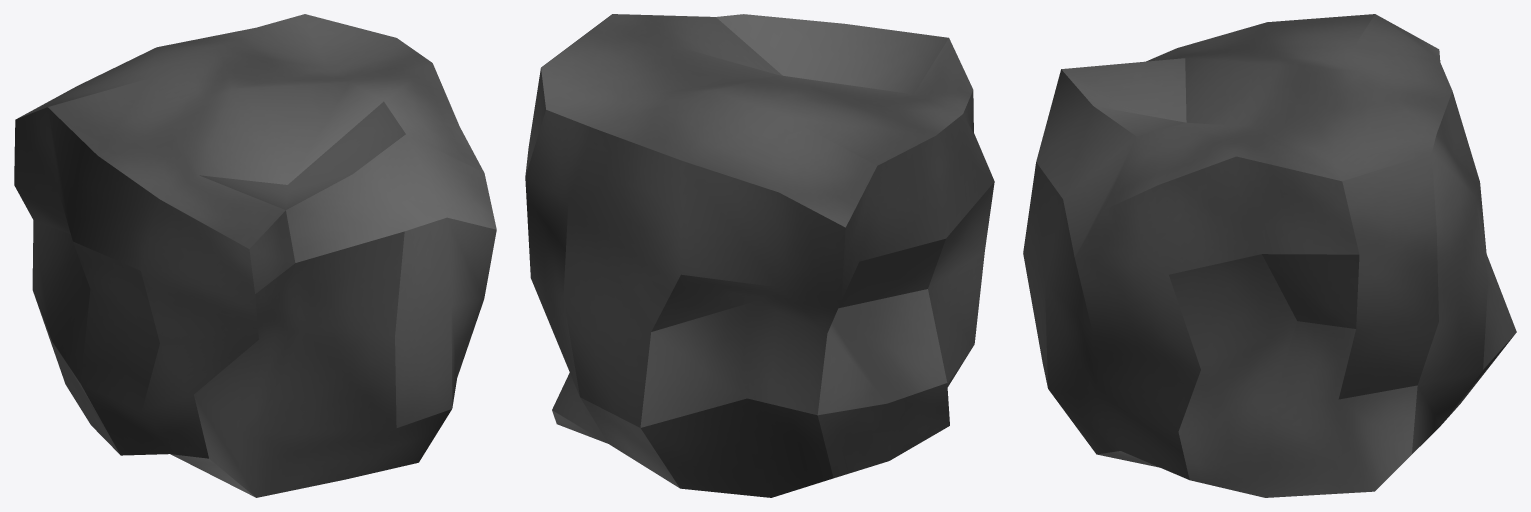
Rendered from GAMEJAMPUFFER - ForeGround Rock 7.fbx.
The picture shows the model from 3 angles, left to right: view 1: azimuth 30°, elevation 25°; view 2: azimuth 150°, elevation 25°; view 3: azimuth 270°, elevation 25°; orthographic projection. The views are drawn at different scales.
Parts seen in each view (by area): view 1: Cube.008; view 2: Cube.008; view 3: Cube.008.
Boxes of the visible parts, x1,y1,x2,y2 form: Cube.008: [14, 14, 496, 497]; Cube.008: [525, 14, 994, 497]; Cube.008: [1023, 14, 1516, 497].
Size of the model in its own units: 168 by 161 by 196.
1 material, 1 textured.
